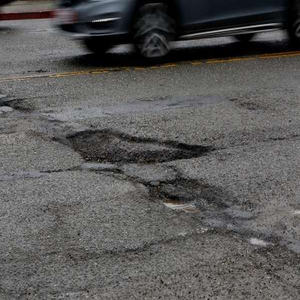pothole: (58, 126, 214, 167), (136, 177, 232, 217)
